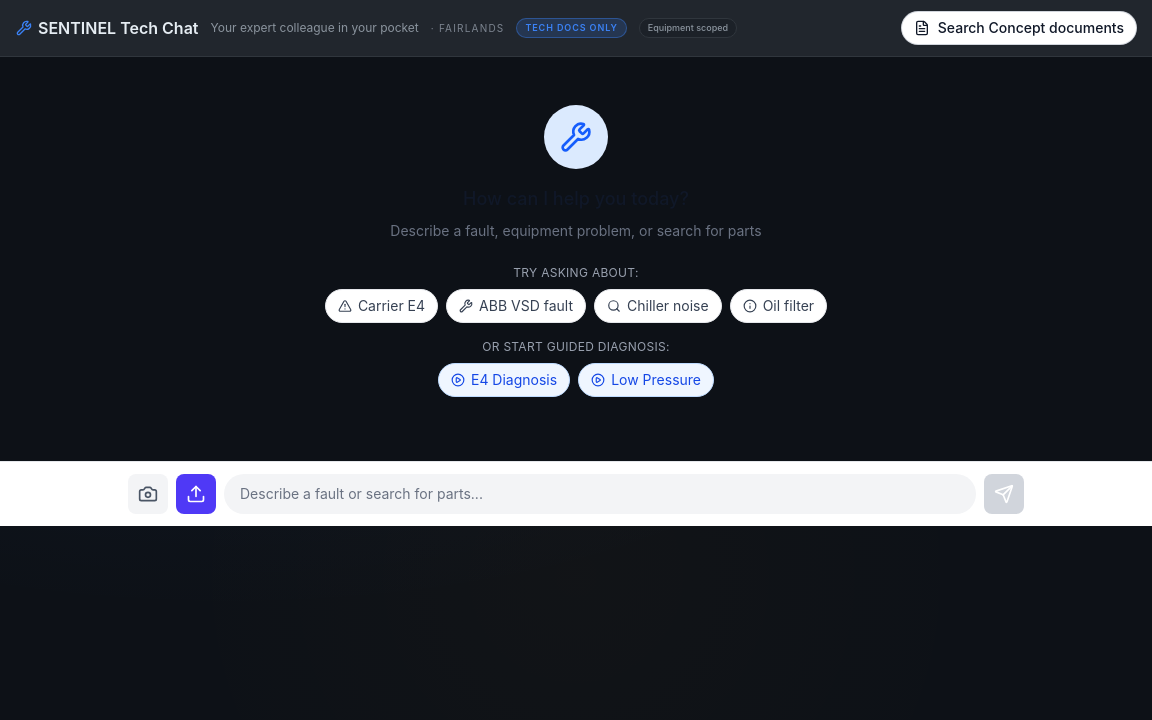
Test: TechnicianChat Concept mode › switches to Concept search mode and queries the technical search endpoint
This screenshot has width=1152, height=720.
Click the button "Search Concept documents" at (1019, 28), box [902,12,1136,44]
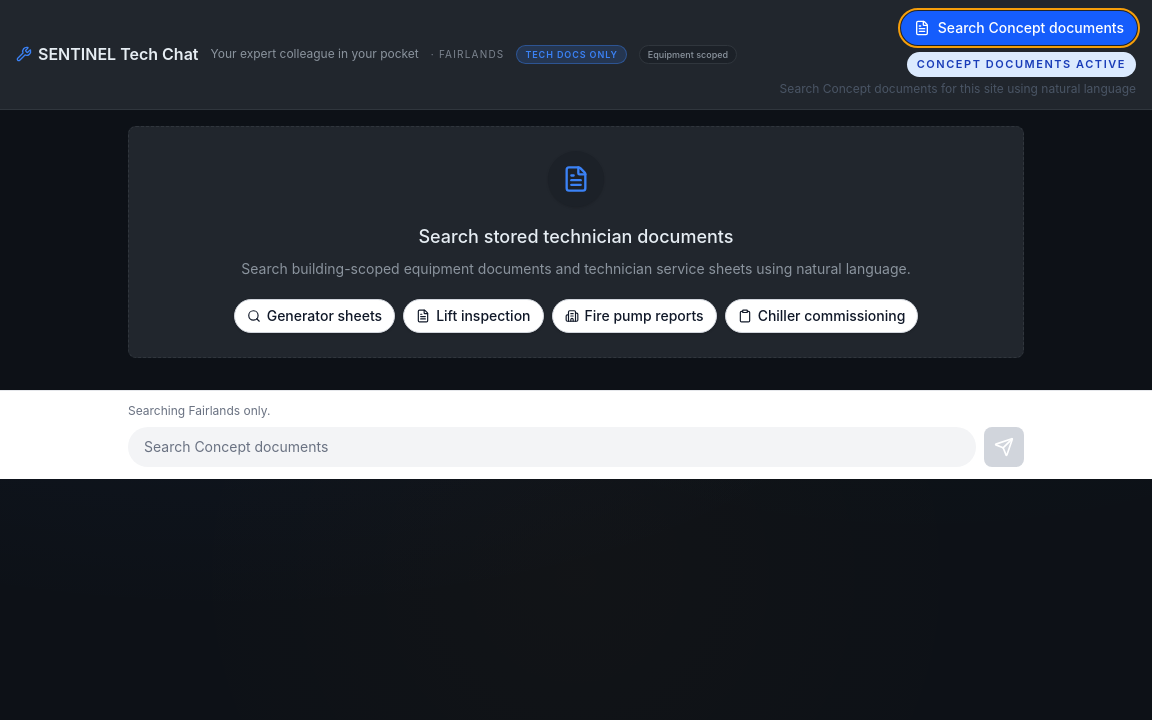
Now the text "Concept documents active" is shown, box [907,52,1136,76]
Now the field with placeholder "Search Concept documents" is shown
Type "elevator annual lift inspection certificate" into the field with placeholder "Search Concept documents" at (552, 446), box [128,426,976,466]
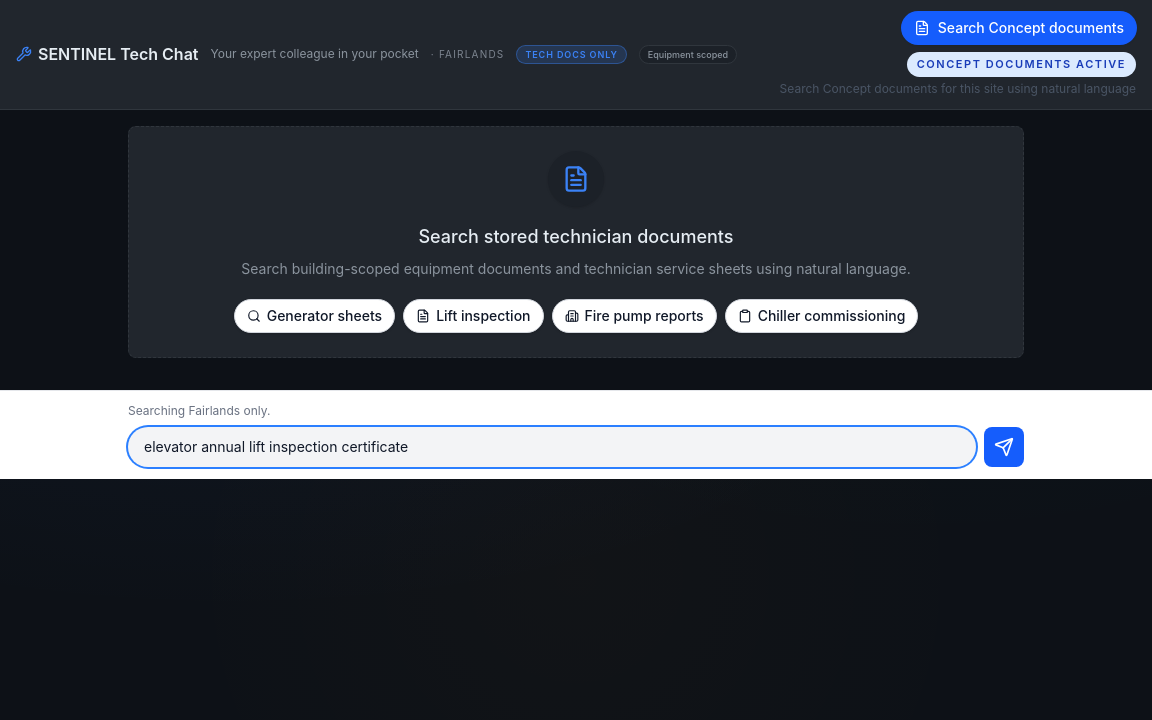
Click the button named "Run Concept documents search" at (1004, 446), box [984,426,1024,466]
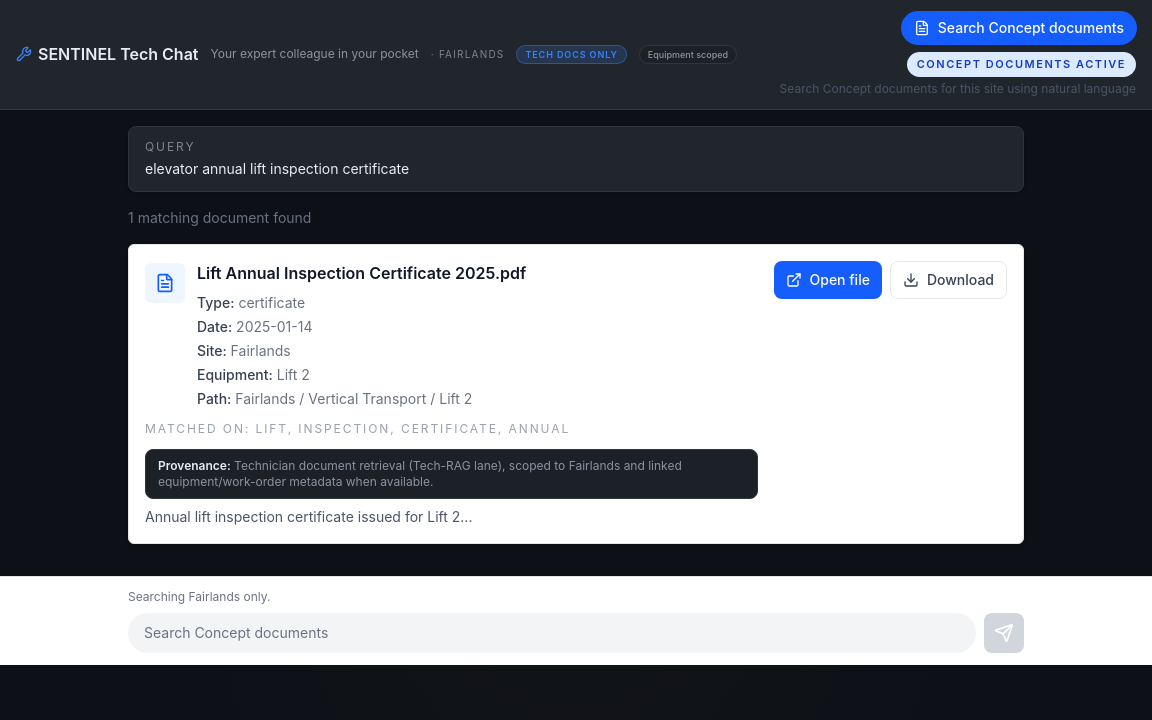
Now the heading "Lift Annual Inspection Certificate 2025.pdf" is shown, box [197,262,526,282]
Now the text "1 matching document found" is shown, box [128,208,311,226]
